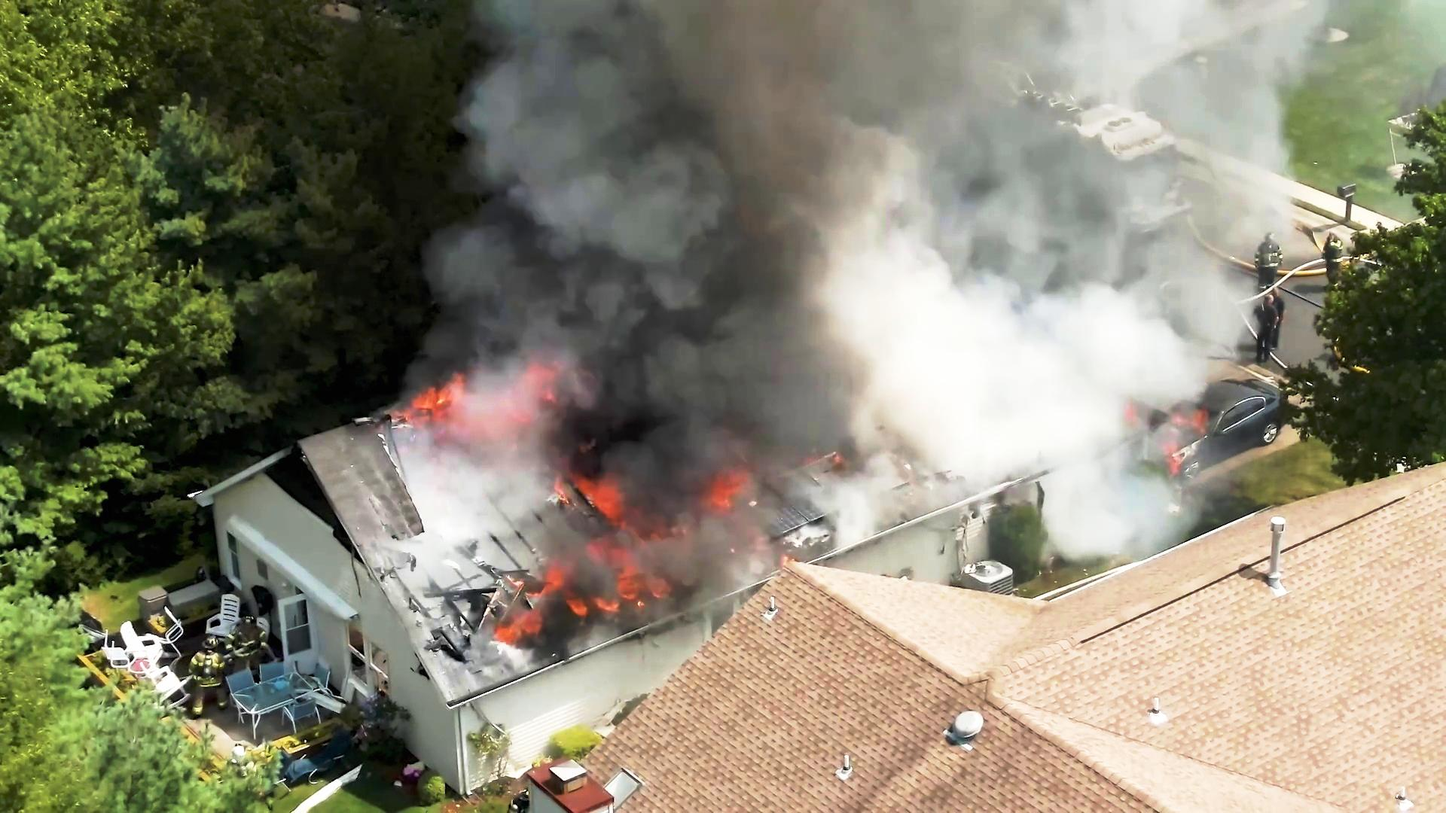smoke: (529, 0, 879, 356), (863, 11, 1172, 390)
